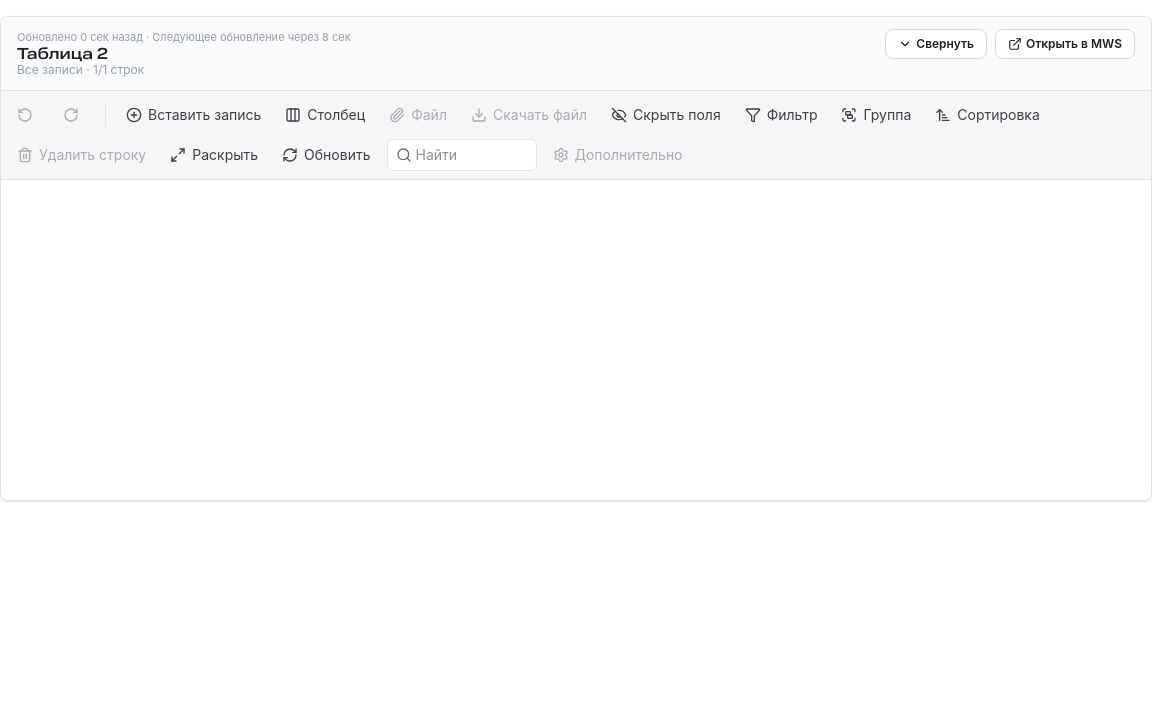
it: MwsTableEmbedComponent › opens a field action menu from the header and routes filtering to client controls
The width and height of the screenshot is (1152, 720).
Press the mouse on the drawing with test id "mws_canvas_grid": (576, 340) top-left (1, 180), bottom-right (1151, 500)
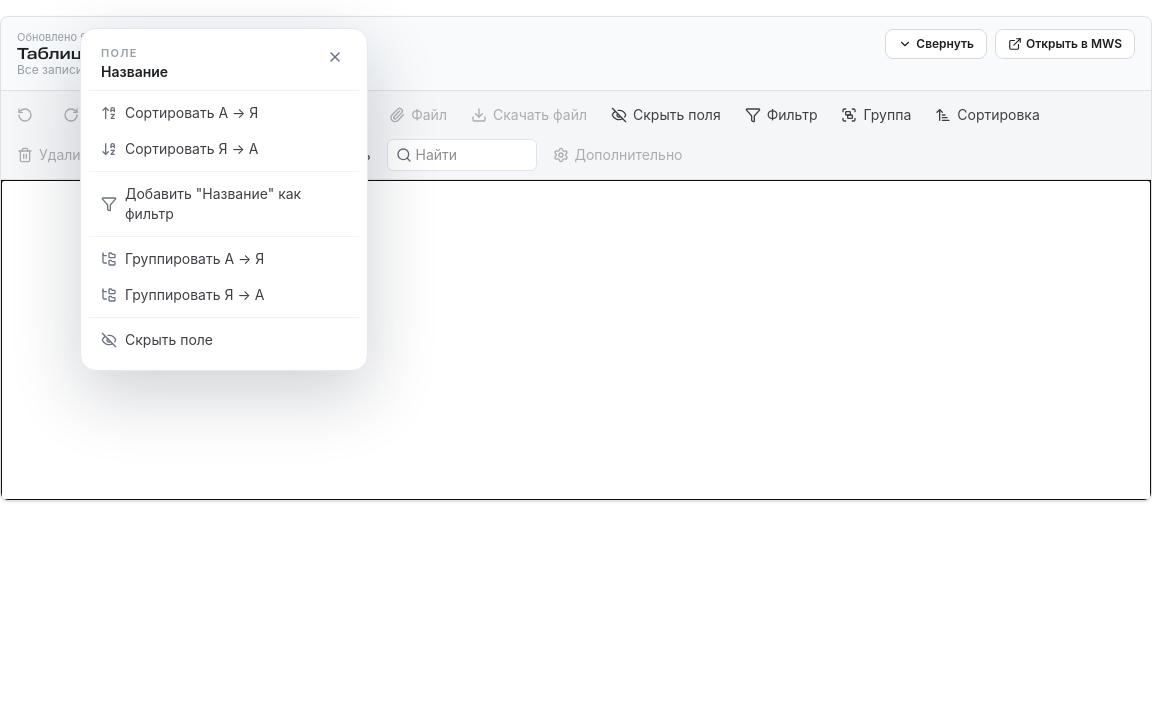
Check: the menu named "Действия для поля Название" is shown, box top-left (80, 28), bottom-right (368, 370)
Click the button "Добавить \"Название\" как фильтр": (224, 204) top-left (89, 176), bottom-right (359, 232)
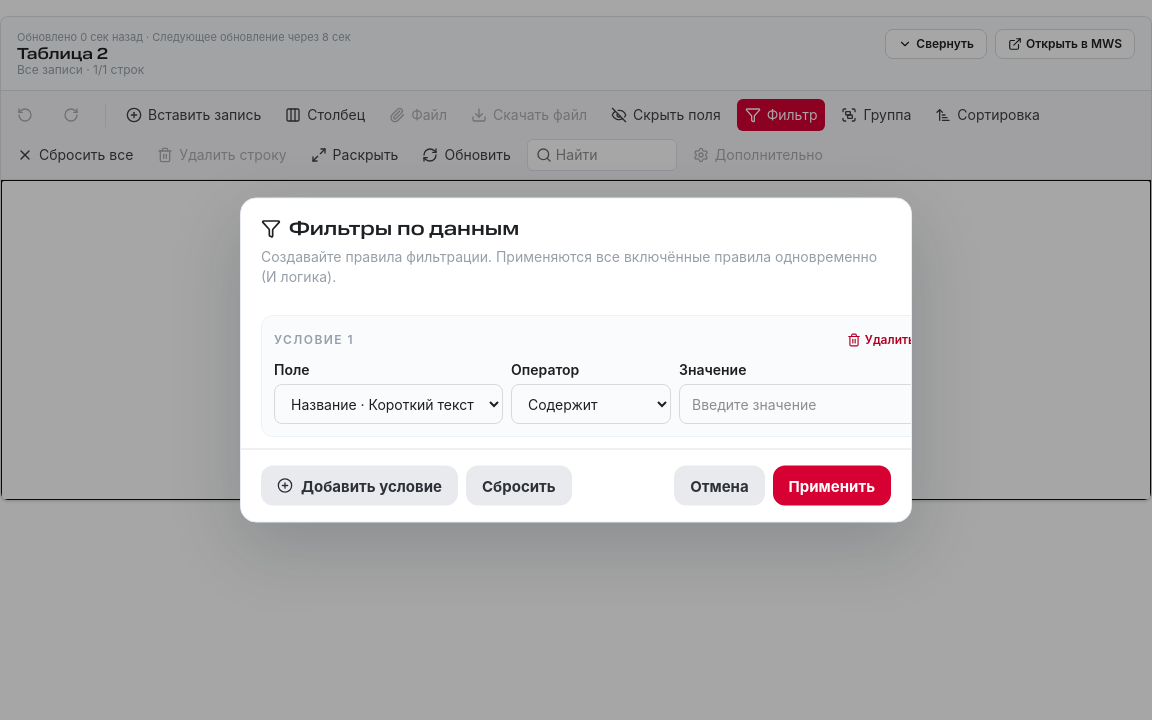
Check: the dialog "Фильтры по данным" is shown, box top-left (240, 198), bottom-right (912, 522)
